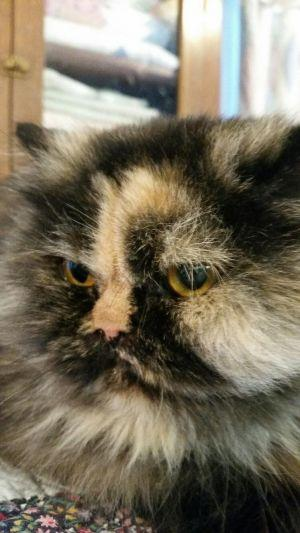persian: (6, 96, 300, 424)
